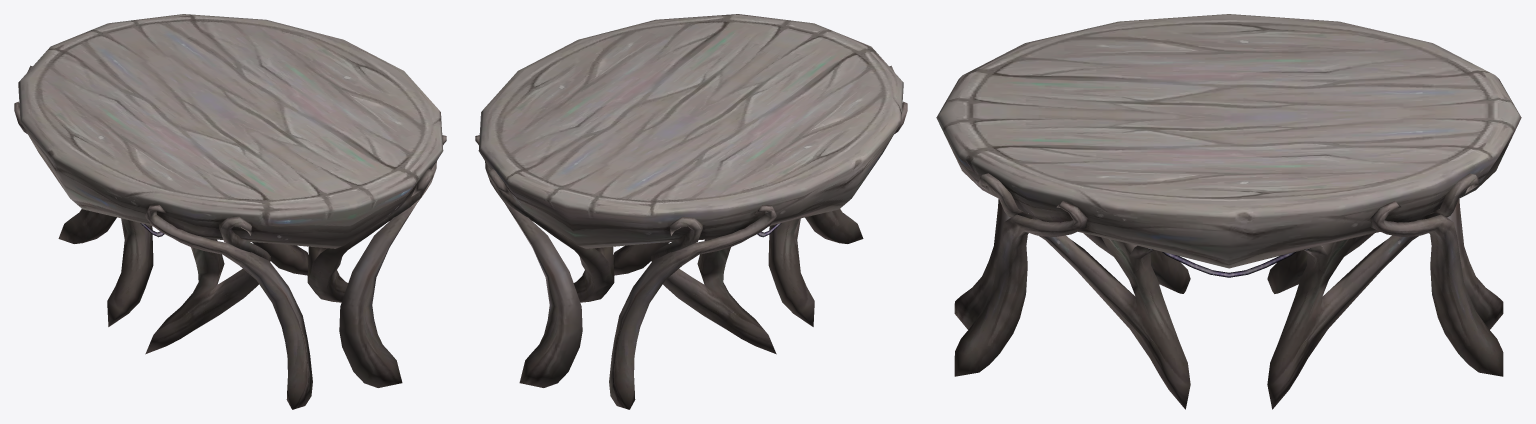
3 views of the same model, side by side, from view 1: azimuth 30°, elevation 25°; view 2: azimuth 150°, elevation 25°; view 3: azimuth 270°, elevation 25° (orthographic). The views are drawn at different scales.
Size of the model in its own units: 2.66 by 1.48 by 3.27.
Materials: 2 (2 with a texture image).
